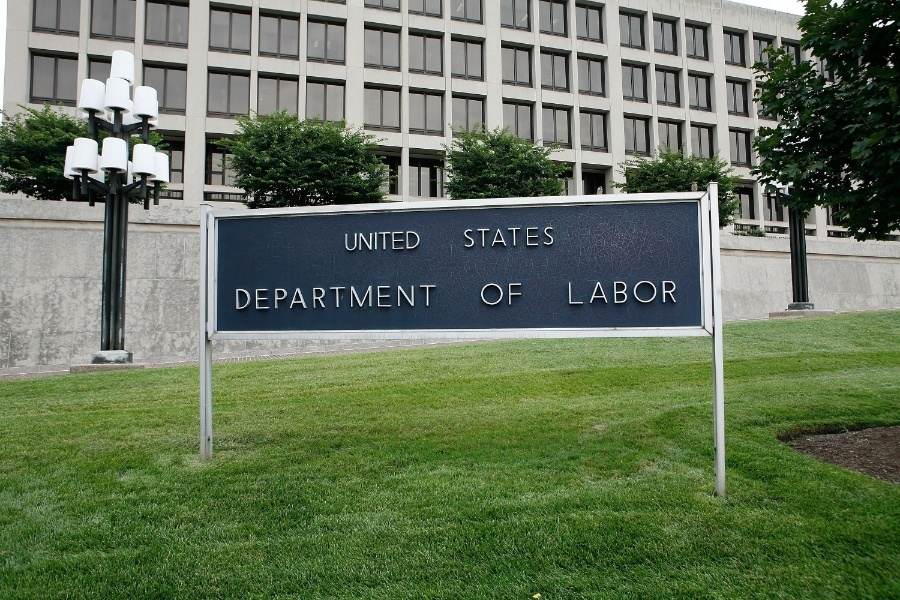text: (241, 284, 256, 310), (257, 284, 272, 310), (273, 284, 288, 310), (289, 284, 304, 310), (305, 284, 320, 310), (321, 284, 336, 310), (337, 284, 352, 310), (353, 284, 368, 310), (369, 284, 384, 310), (385, 284, 400, 310), (401, 284, 416, 310), (417, 284, 432, 310), (577, 280, 592, 305), (593, 280, 608, 305), (609, 280, 624, 305), (625, 280, 640, 305), (641, 280, 656, 305), (657, 280, 672, 305), (497, 283, 512, 305), (482, 283, 496, 305), (353, 231, 368, 251), (369, 231, 384, 251), (385, 231, 400, 251), (401, 231, 416, 251), (465, 227, 480, 247), (481, 227, 496, 247), (497, 227, 512, 247), (513, 227, 528, 247), (529, 227, 544, 247), (545, 227, 555, 247), (568, 280, 576, 305), (513, 283, 522, 305), (673, 280, 679, 305), (345, 231, 352, 251), (433, 284, 438, 310), (236, 284, 240, 310), (417, 231, 420, 251)
